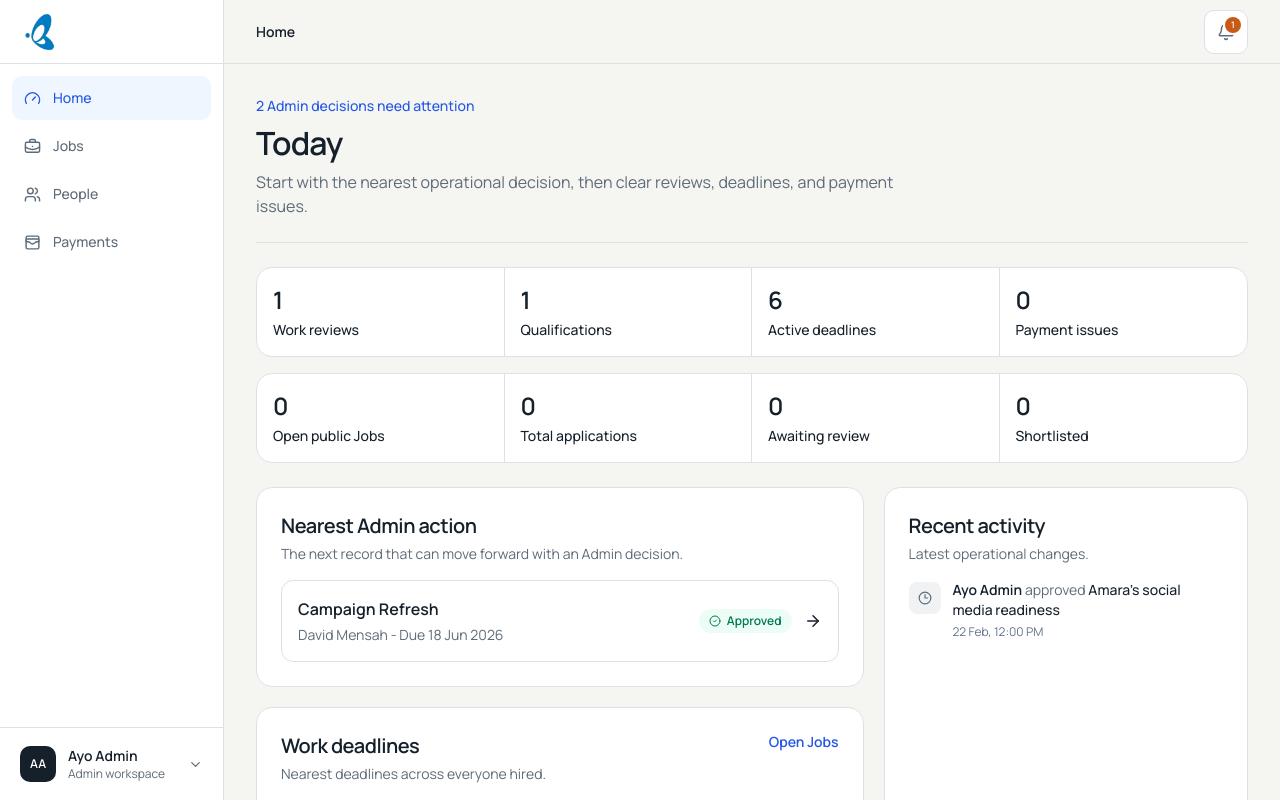
Test case: application routing › hides demo reset controls for a remote account
This screenshot has width=1280, height=800.
Click the button with aria-label "Open desktop user menu" at coordinates (112, 764), box [12,740,211,788]
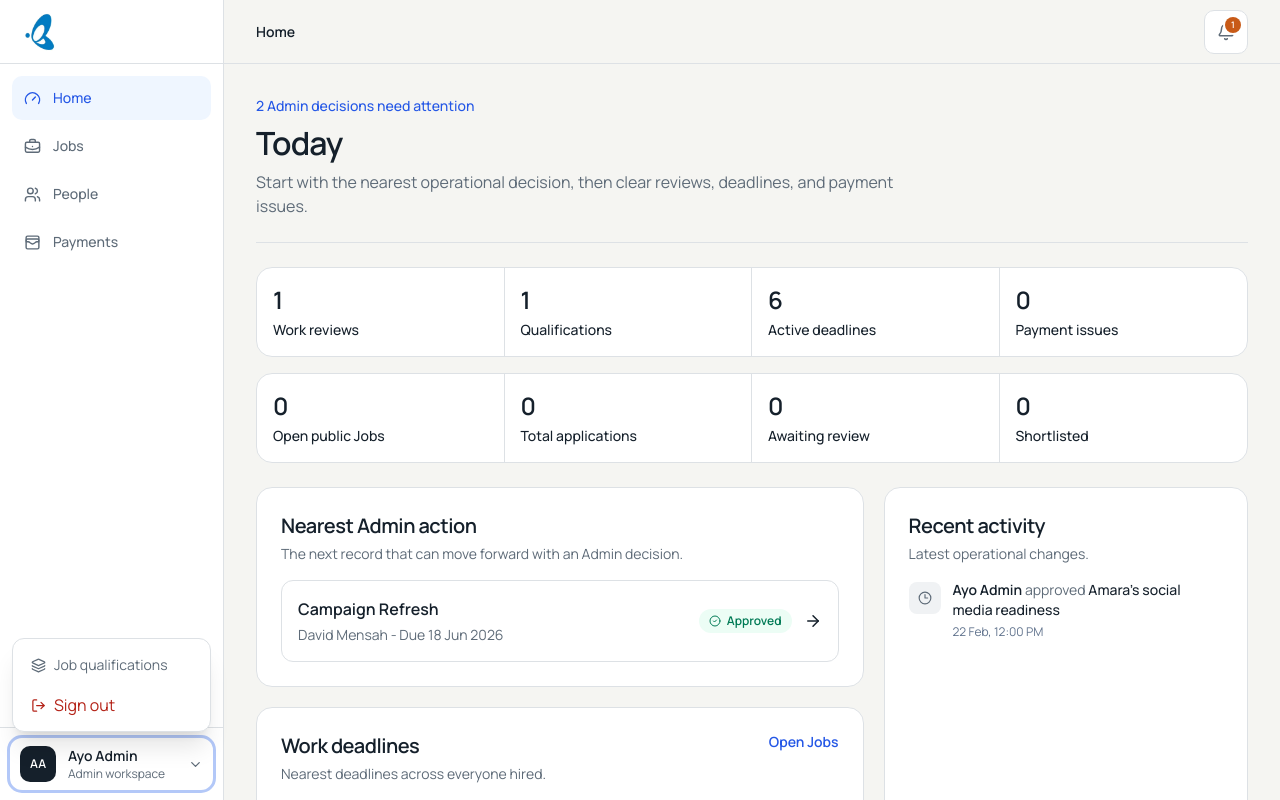
Expected: the button "Sign out" is shown, [19,685,204,725]
